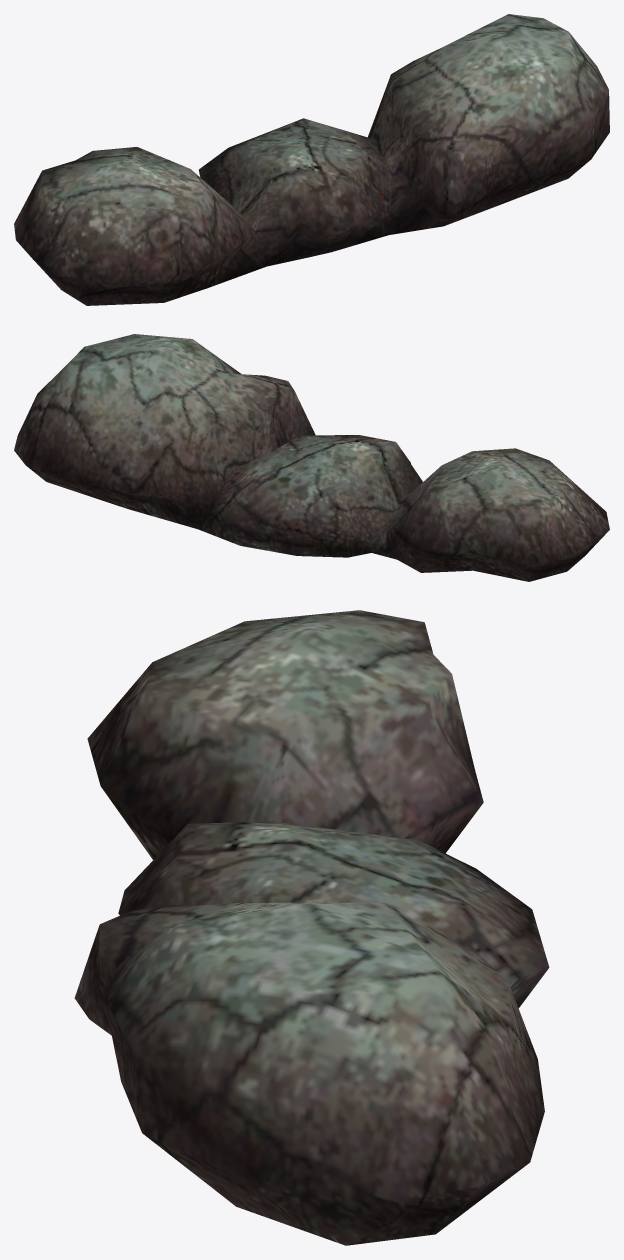
The model's file is robot_lamp_growing_tris.dae.
The picture shows the model from 3 angles, top to bottom: view 1: azimuth 30°, elevation 25°; view 2: azimuth 150°, elevation 25°; view 3: azimuth 270°, elevation 25°; orthographic projection. The views are drawn at different scales.
Parts seen in each view (by area): view 1: robot_lamp_growing_tris; view 2: robot_lamp_growing_tris; view 3: robot_lamp_growing_tris.
Boxes of the visible parts, left/top/right/bottom form: robot_lamp_growing_tris: left=14, top=14, right=609, bottom=305; robot_lamp_growing_tris: left=14, top=334, right=609, bottom=581; robot_lamp_growing_tris: left=74, top=610, right=549, bottom=1245.
Bounding box in the file's own units: 0.3163 × 0.0812 × 0.1201.
